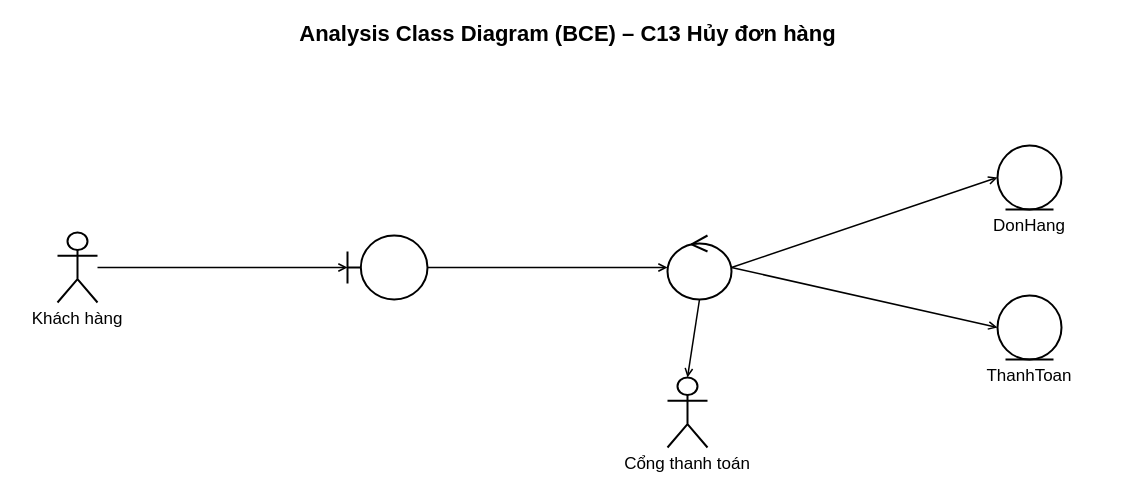
The diagram is 1134 pixels wide and 491 high, and some of its shapes have lost their labels. Here are the shapes that lost their labels. From the top down, the box of each, then its label:
(346, 234, 428, 300): HuyDonHangPage
(666, 234, 732, 300): HuyDonHangController
